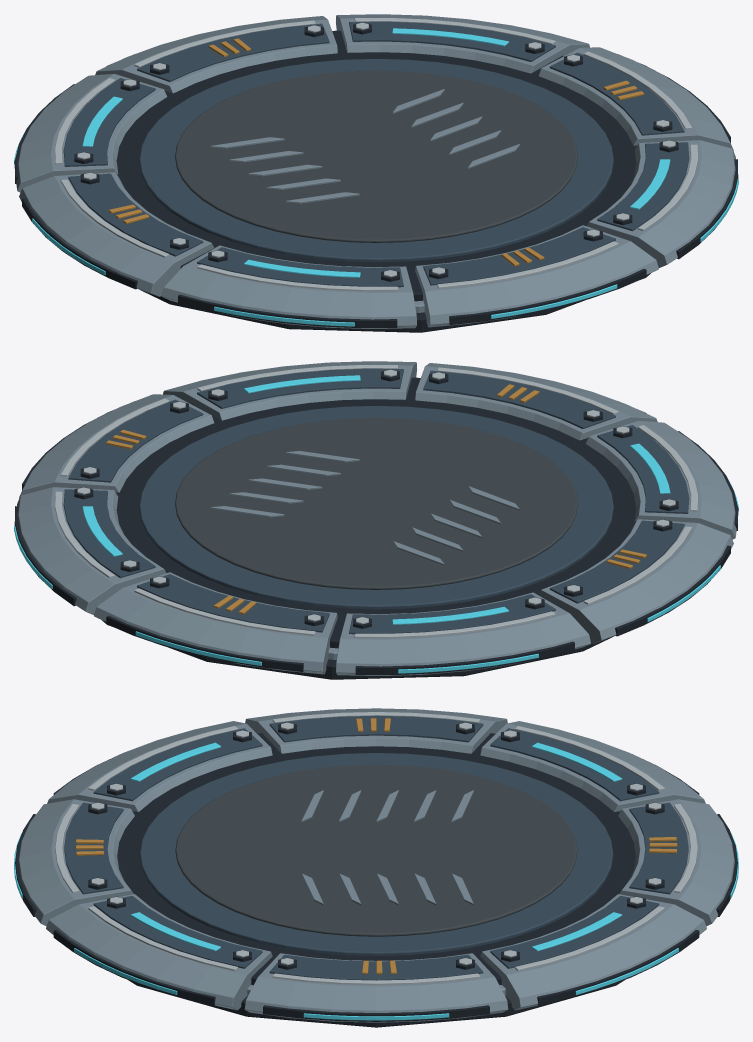
File: station_platform.glb
3 renders of one model, top to bottom at view 1: azimuth 30°, elevation 25°; view 2: azimuth 150°, elevation 25°; view 3: azimuth 270°, elevation 25°, orthographic.
Visible parts, largest first — view 1: Chassis, LightGuides; view 2: Chassis, LightGuides; view 3: Chassis, LightGuides.
Part boxes in pixels (x1,y1,x2,y2): Chassis: (14,14,738,332); LightGuides: (14,28,738,326); Chassis: (14,361,738,679); LightGuides: (14,375,738,673); Chassis: (15,708,737,1027); LightGuides: (14,742,738,1020).
Bounding box in the file's own units: 2.57 × 0.163 × 2.57.
